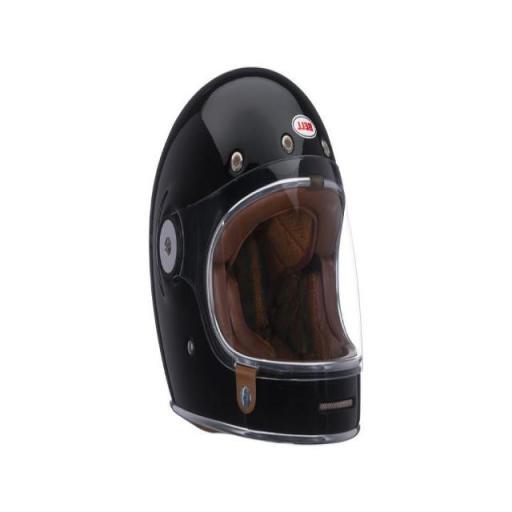Helmet: (134, 58, 410, 479)
